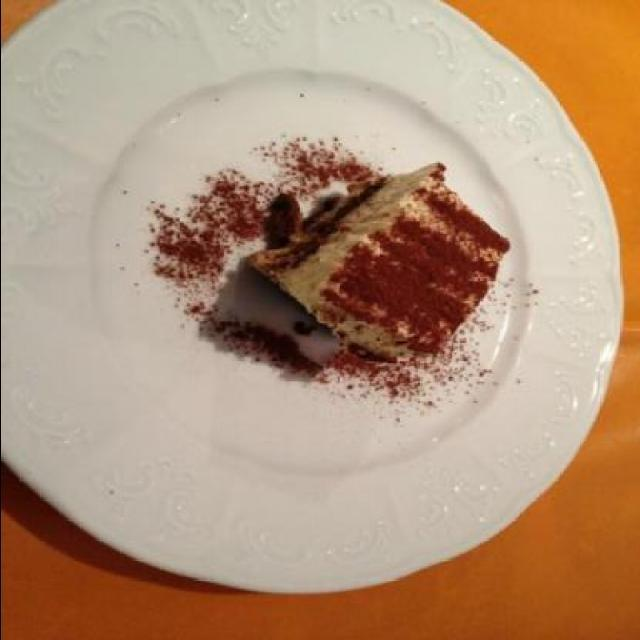Tiramisu: (266, 178, 512, 374)
